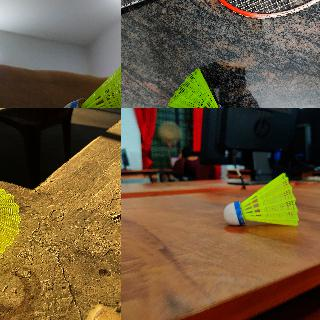shuttlecock: (223, 171, 300, 225), (59, 47, 120, 107), (167, 67, 228, 107), (0, 185, 21, 257)
